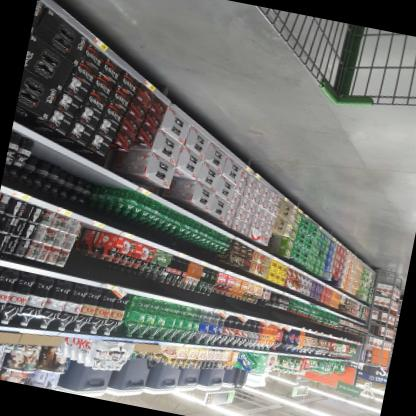empty_space: (42, 152, 131, 183), (78, 224, 102, 250), (271, 291, 281, 298)
